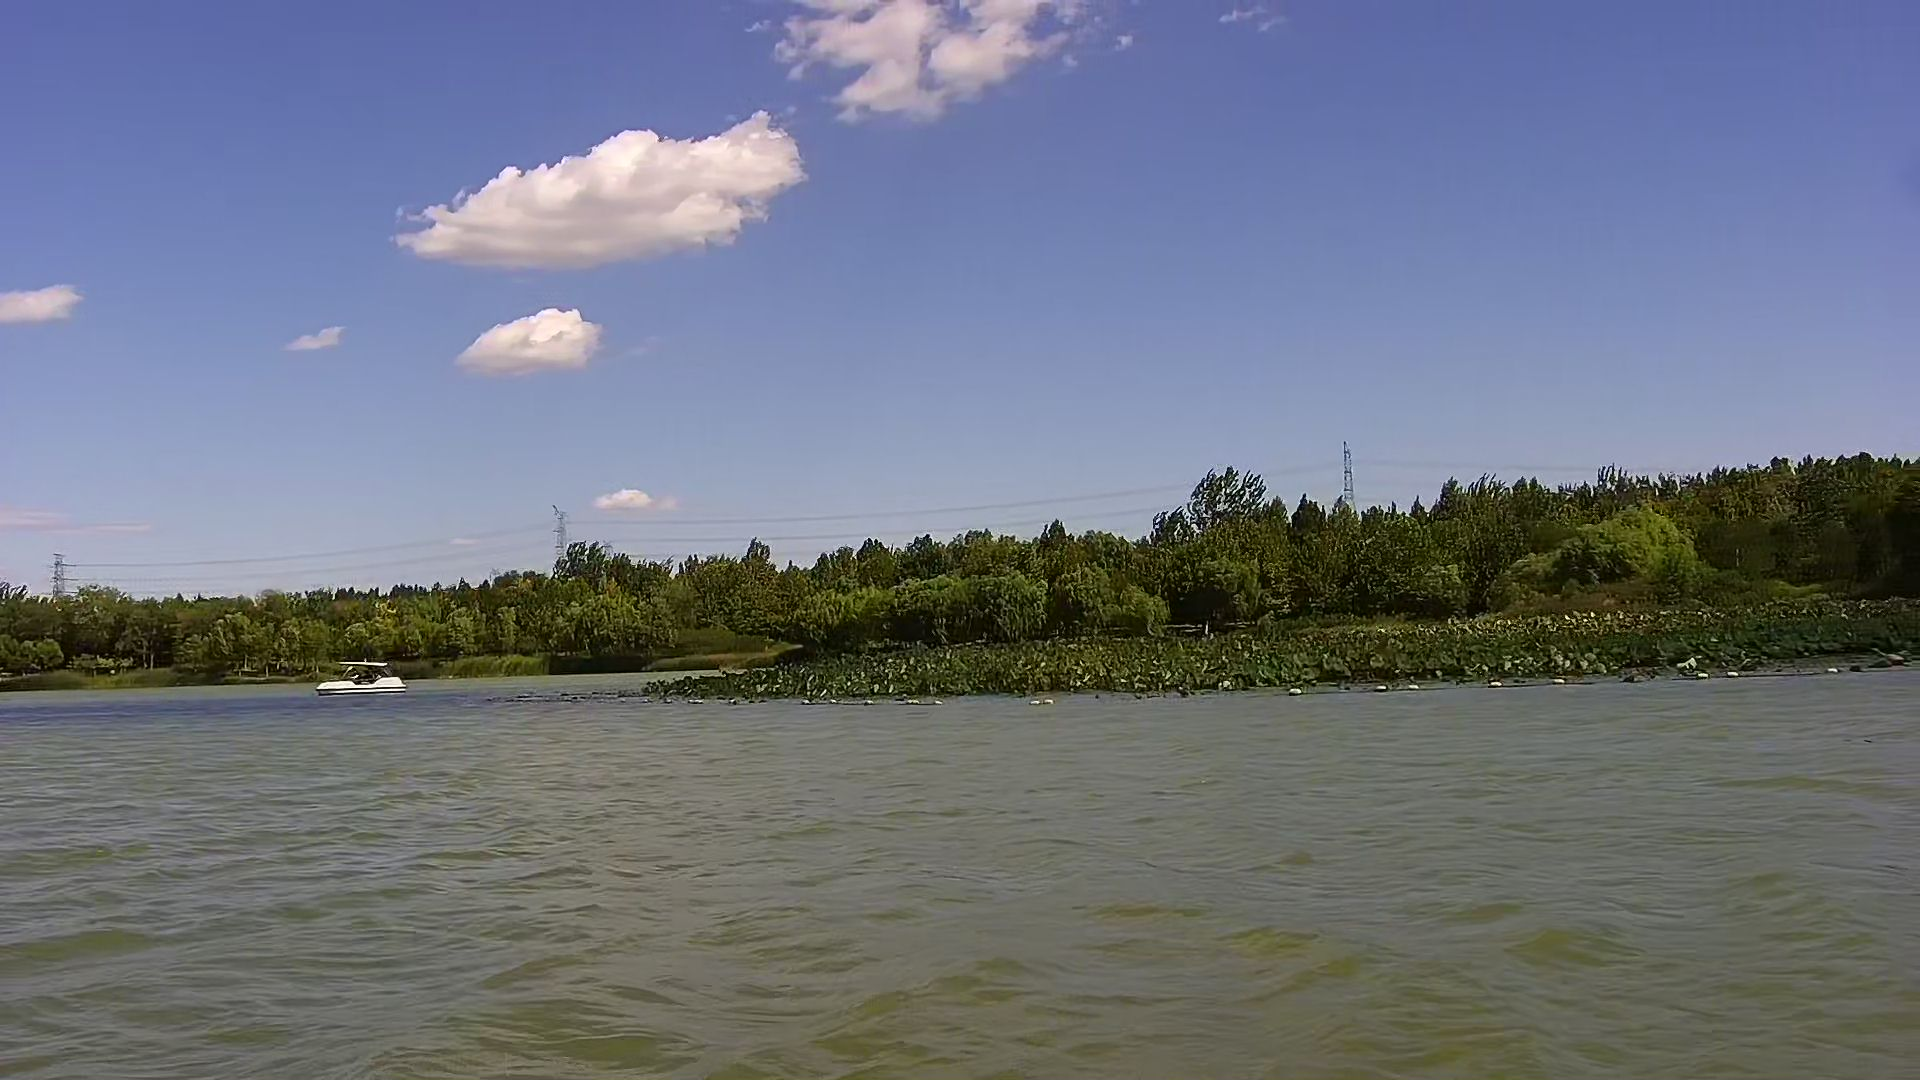boat: (316, 658, 411, 694)
